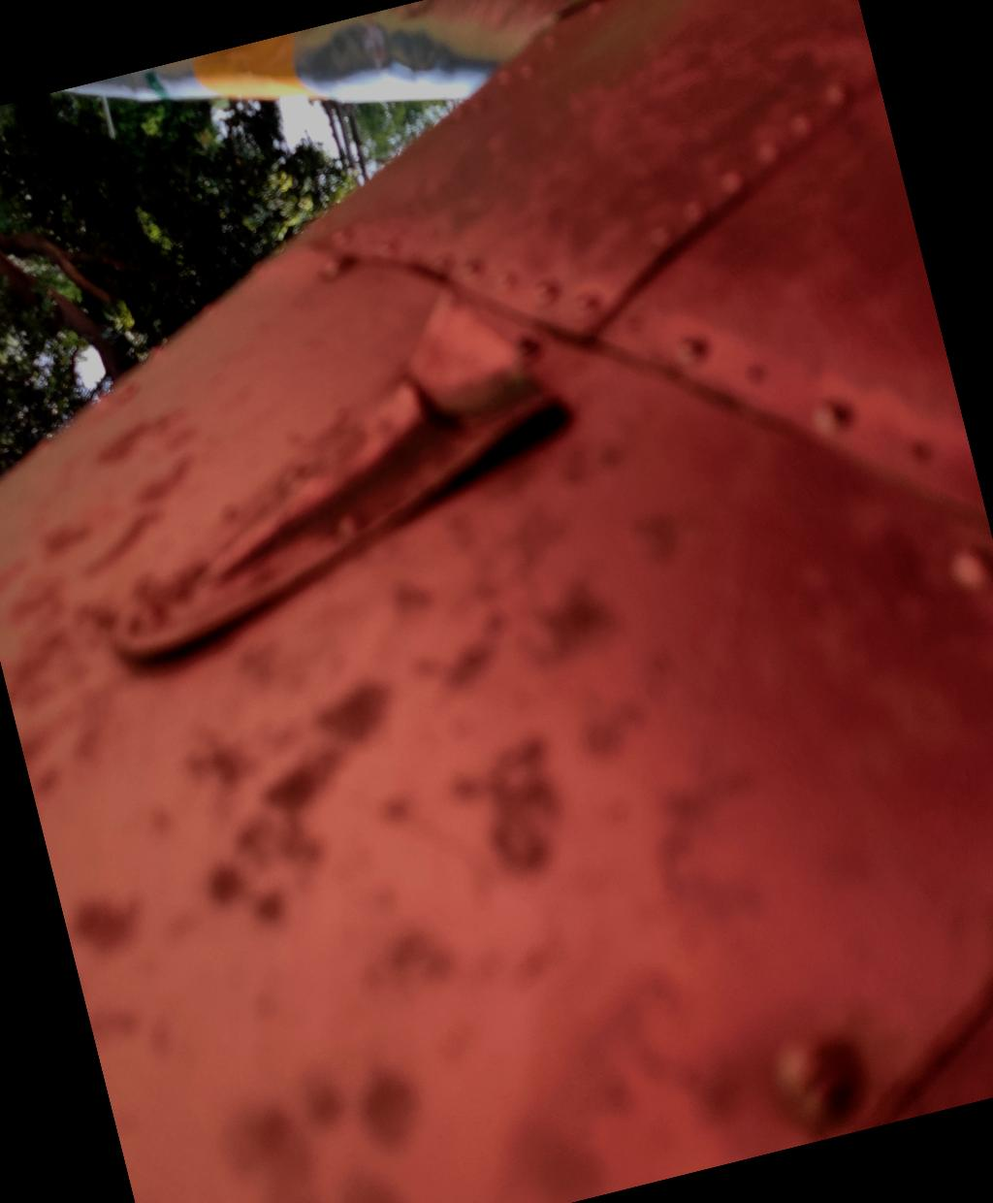crack: (359, 321, 493, 474)
